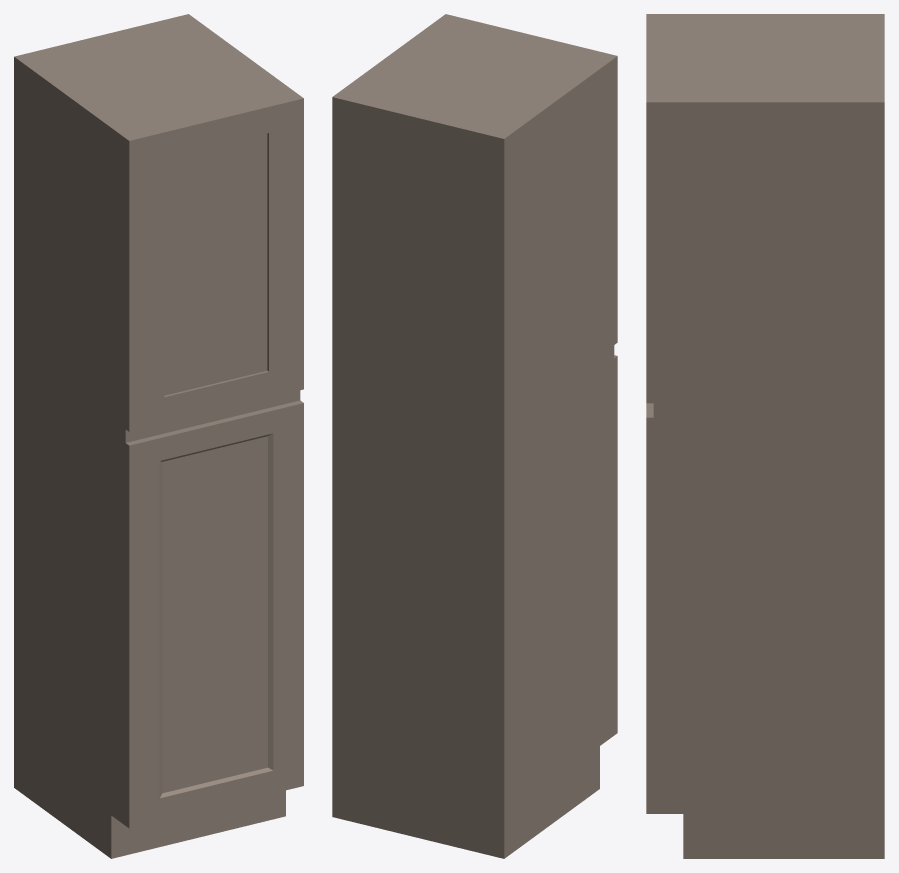
The model's file is Utility-Cabinet-24-Deep_std_001_W21in_1D.glb.
3 renders of one model, left to right at view 1: azimuth 30°, elevation 25°; view 2: azimuth 150°, elevation 25°; view 3: azimuth 270°, elevation 25°, orthographic. The views are drawn at different scales.
Visible parts, largest first — view 1: Utility-Cabinet-24-Deep.std.001_W21in_1D; view 2: Utility-Cabinet-24-Deep.std.001_W21in_1D; view 3: Utility-Cabinet-24-Deep.std.001_W21in_1D.
Boxes of the visible parts, x1,y1,x2,y2 form: Utility-Cabinet-24-Deep.std.001_W21in_1D: [14, 14, 303, 858]; Utility-Cabinet-24-Deep.std.001_W21in_1D: [332, 14, 617, 858]; Utility-Cabinet-24-Deep.std.001_W21in_1D: [646, 14, 884, 858].
Bounding box in the file's own units: 0.5334 × 2.13 × 0.6096.
